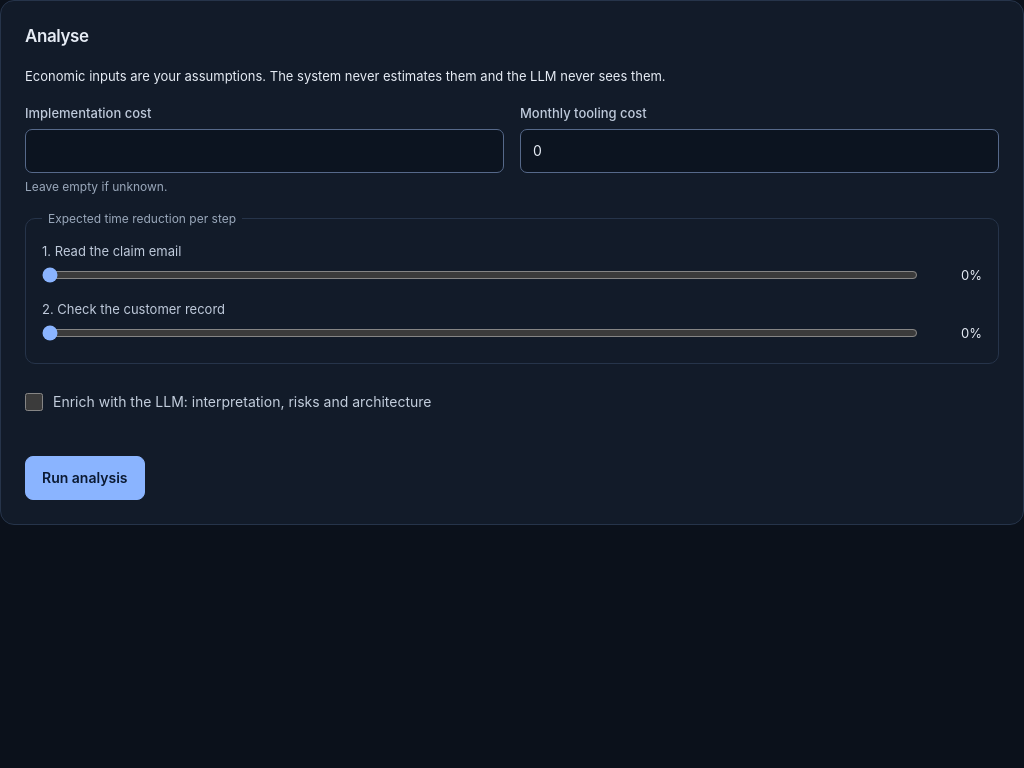
Test case: RS-75: the sensitive-data confirmation › keeps Run analysis disabled with the LLM on until the notice is confirmed
Expected: the heading "Analyse" is shown, [25,25,88,48]
Expected: the button "Run analysis" is enabled, [25,456,144,500]
Step 1. Click the checkbox labelled "Enrich with the LLM: interpretation, risks and architecture" → click(34, 402), box [25,393,43,411]
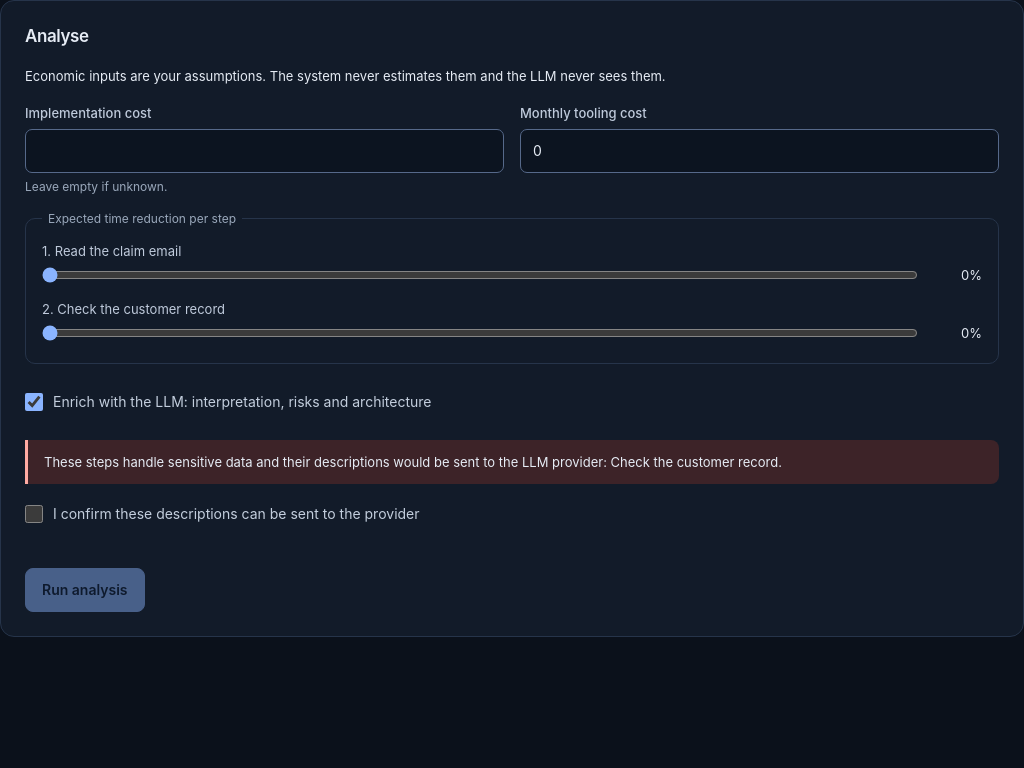
Expected: the text "Check the customer record" is shown, [610,454,778,470]
Expected: the button "Run analysis" is disabled, [25,568,144,612]
Step 2. Click the checkbox labelled "I confirm these descriptions can be sent to the provider" → click(34, 514), box [25,505,43,523]
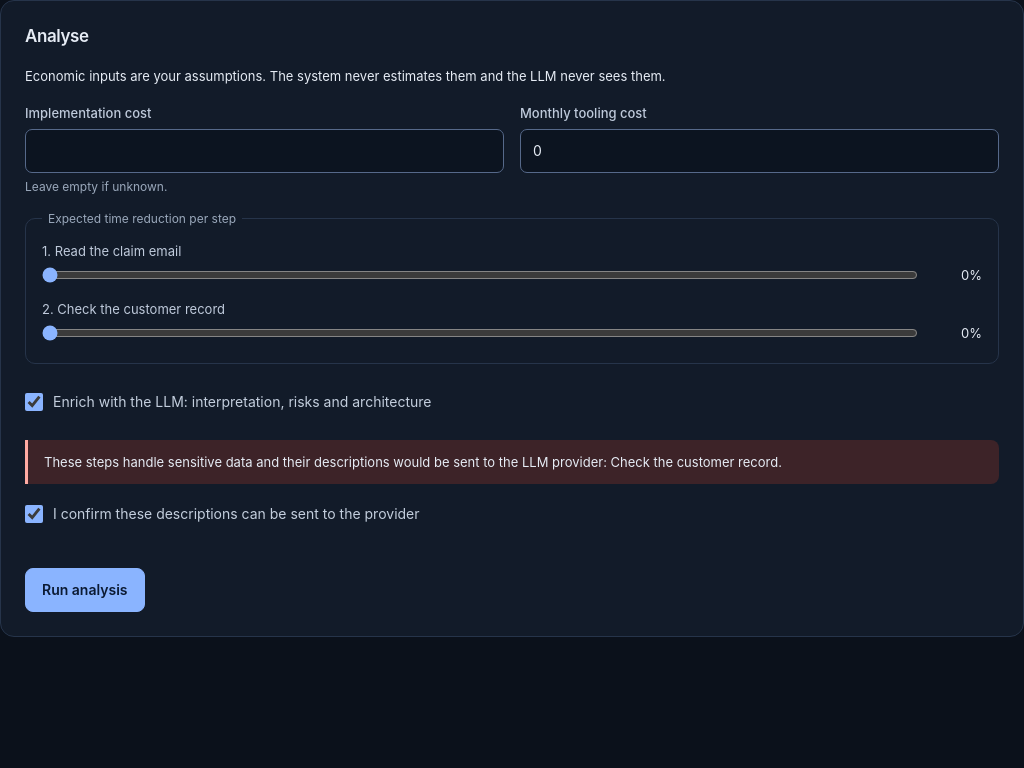
Expected: the button "Run analysis" is enabled, [25,568,144,612]
